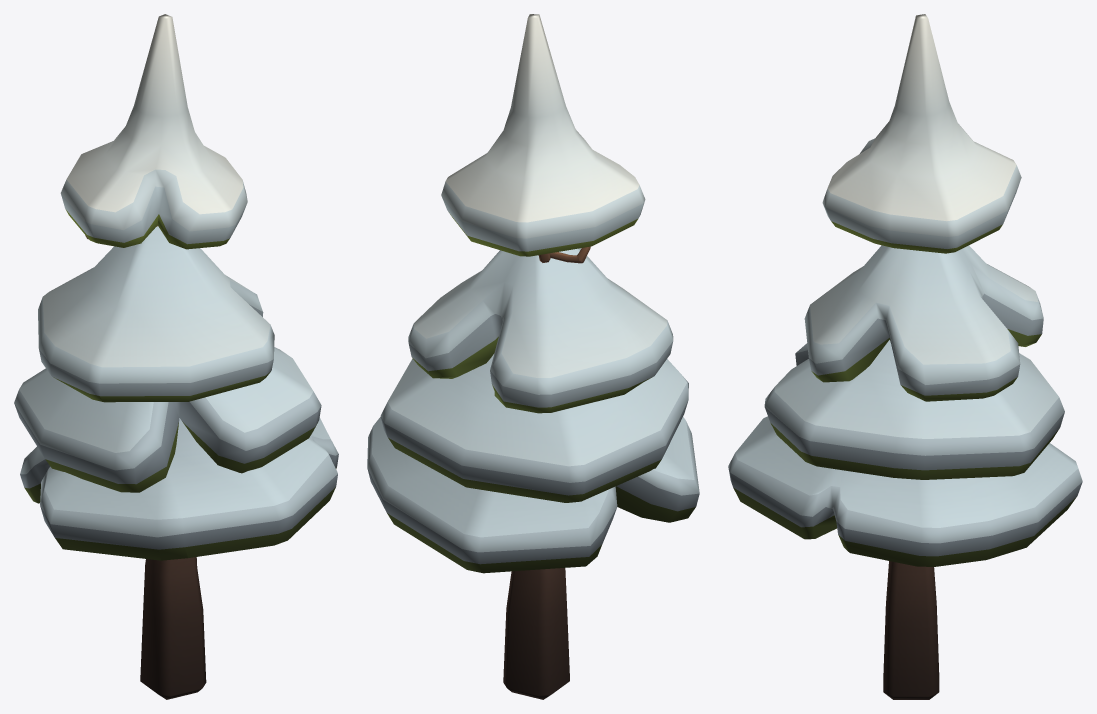
File: pine_tree_col1_09_snow.fbx
The picture shows the model from 3 angles, left to right: view 1: azimuth 30°, elevation 25°; view 2: azimuth 150°, elevation 25°; view 3: azimuth 270°, elevation 25°; orthographic projection.
Visible parts, largest first — view 1: pine_tree_col1_09_snow; view 2: pine_tree_col1_09_snow; view 3: pine_tree_col1_09_snow.
Part boxes in pixels (x1,y1,x2,y2): pine_tree_col1_09_snow: [14, 14, 338, 699]; pine_tree_col1_09_snow: [367, 14, 699, 699]; pine_tree_col1_09_snow: [728, 14, 1082, 699].
Bounding box in the file's own units: 384 × 830 × 395.
Materials: 1 (1 with a texture image).
